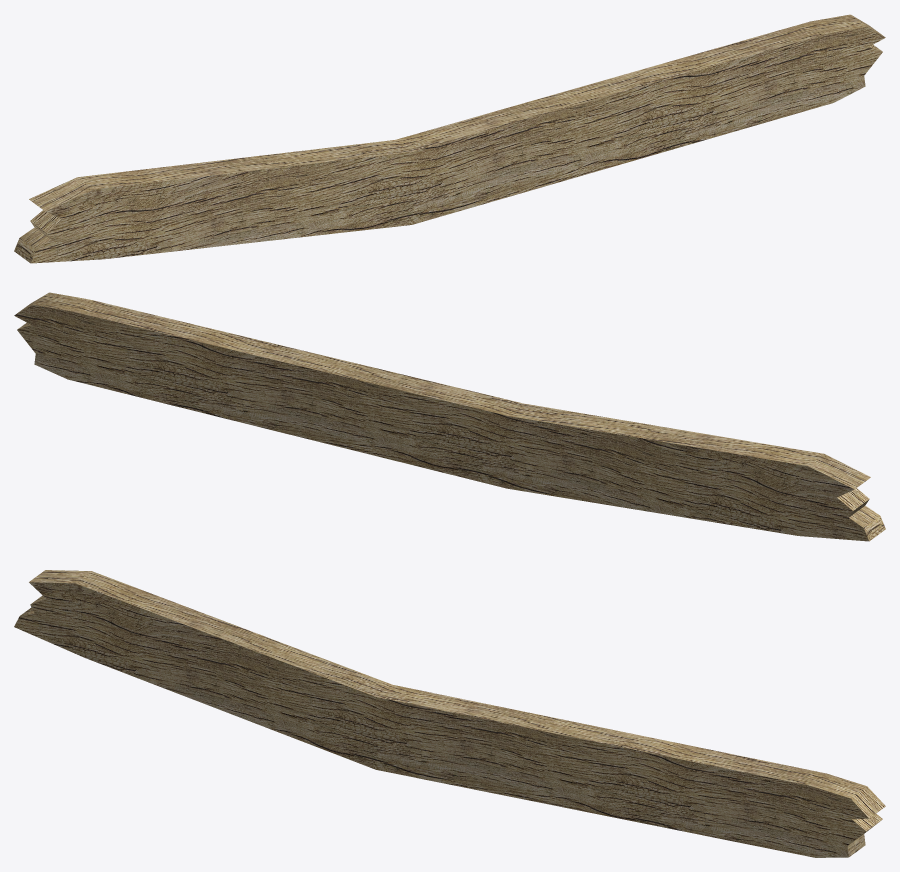
File: woodenPlank05.FBX
3 renders of one model, top to bottom at view 1: azimuth 30°, elevation 25°; view 2: azimuth 150°, elevation 25°; view 3: azimuth 330°, elevation 25°, orthographic.
Parts seen in each view (by area): view 1: wooden_fence_plank_small3; view 2: wooden_fence_plank_small3; view 3: wooden_fence_plank_small3.
Part boxes in pixels (x1,y1,x2,y2): wooden_fence_plank_small3: [14, 14, 885, 263]; wooden_fence_plank_small3: [14, 292, 885, 541]; wooden_fence_plank_small3: [14, 570, 885, 857].
Bounding box in the file's own units: 257 × 30.02 × 13.75.
